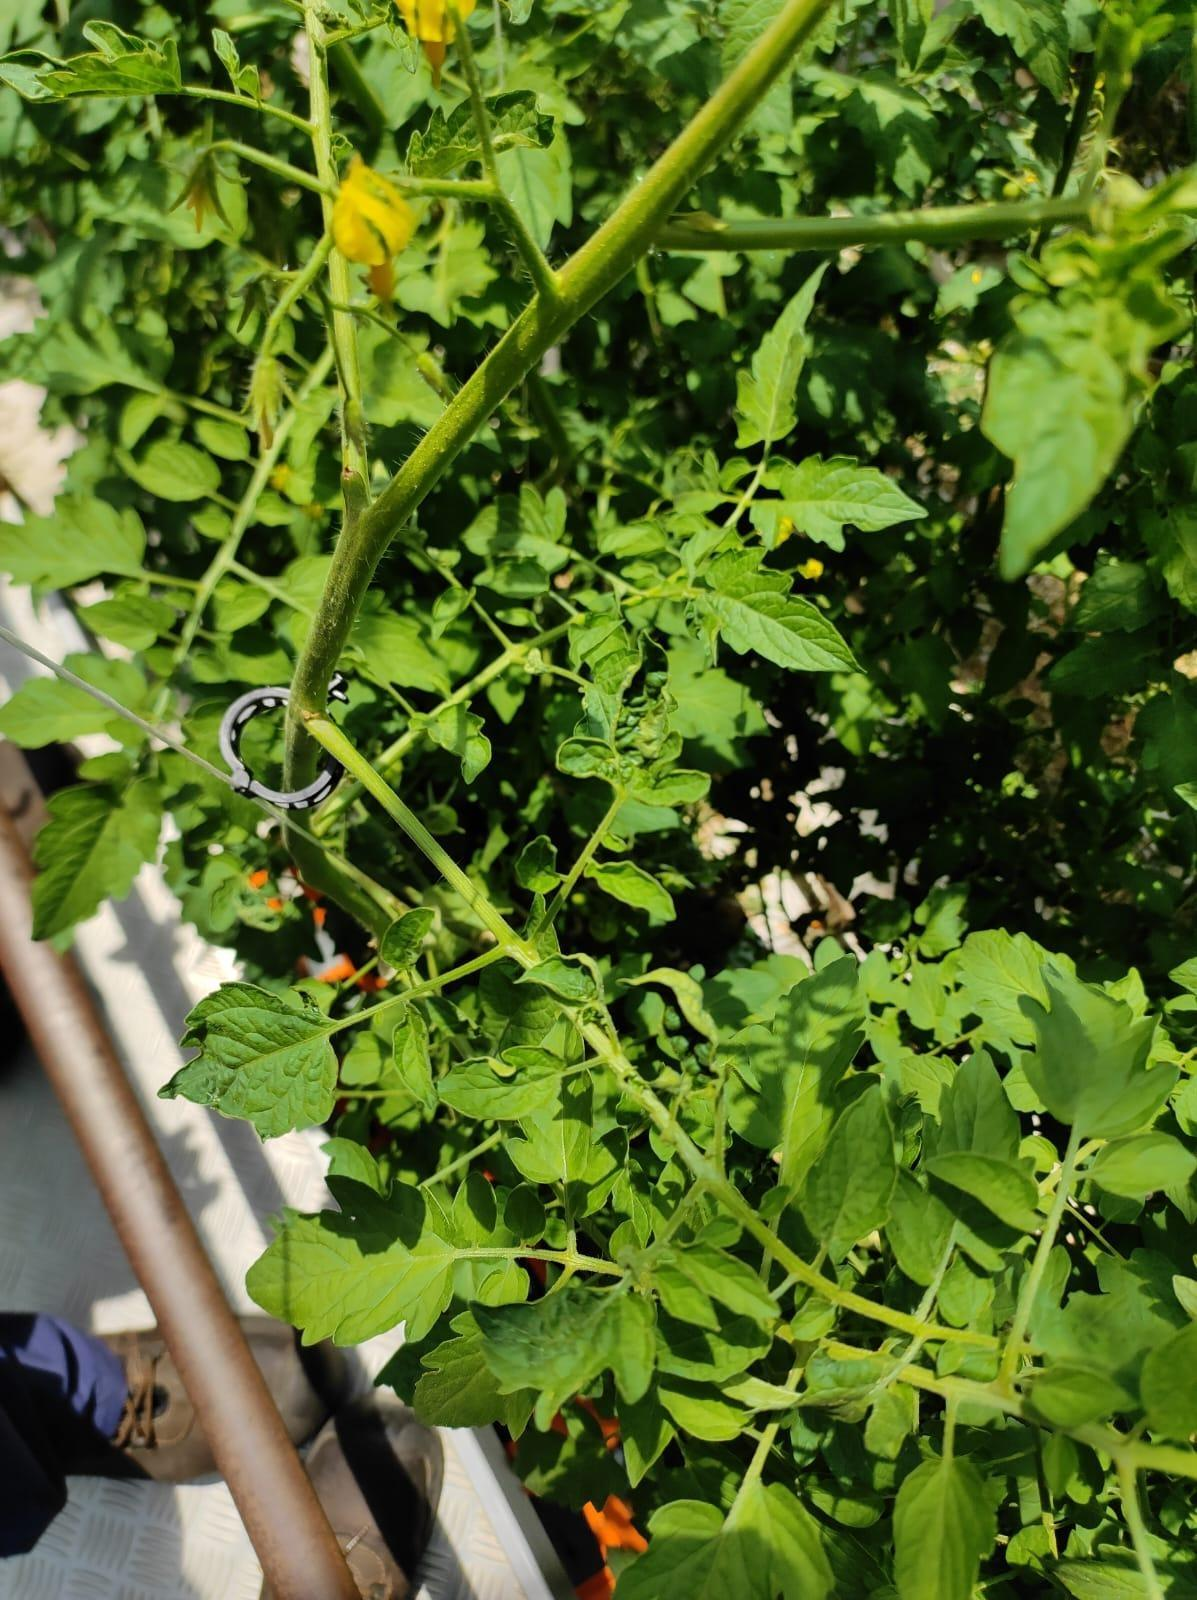Hoja: (246, 1179, 463, 1345), (162, 985, 345, 1136), (700, 551, 856, 672)
Pedunculo: (284, 186, 676, 1022), (34, 778, 160, 938)
